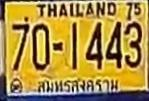0: (32, 23, 50, 70)
1: (71, 22, 77, 69)
3: (124, 21, 141, 67)
4: (85, 21, 102, 68), (105, 21, 121, 68)
7: (12, 23, 30, 70)
SKM: (34, 76, 125, 95)
